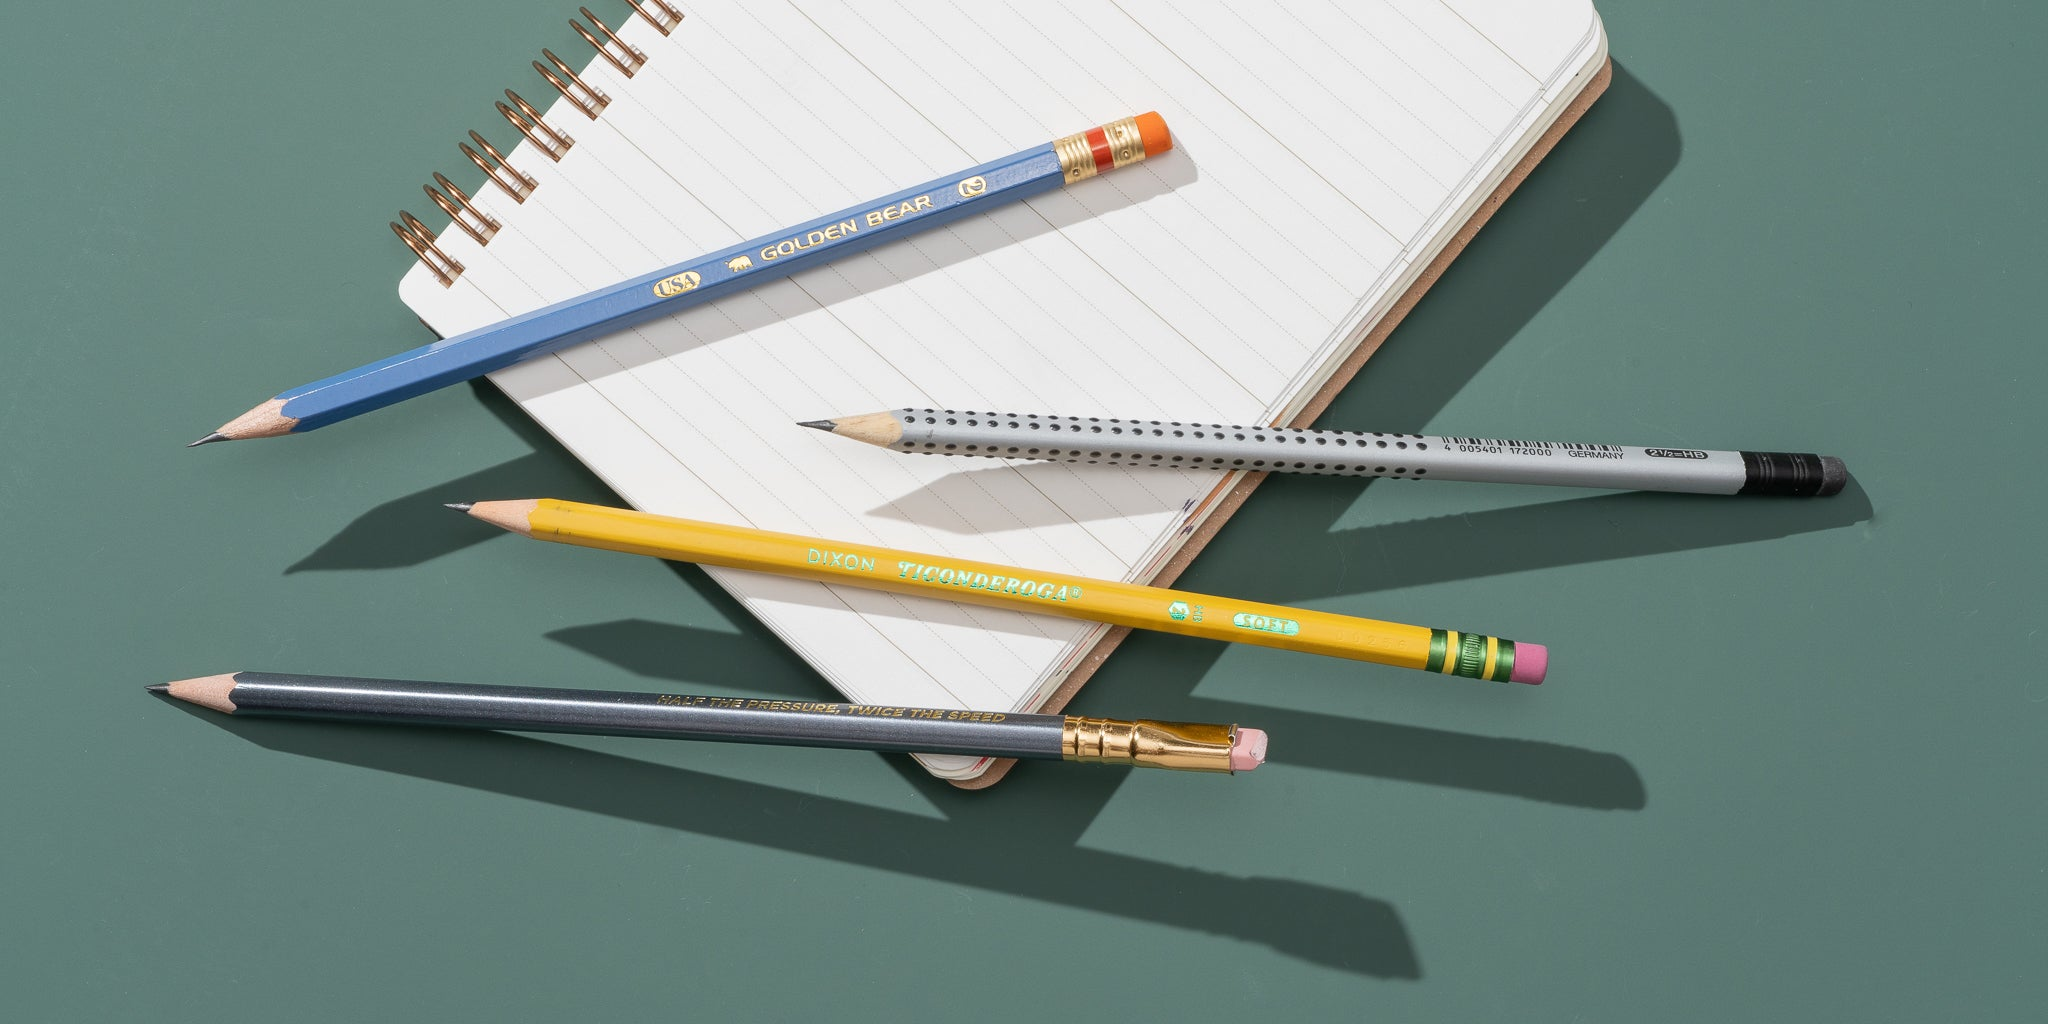pencil: (112, 65, 1899, 884)
